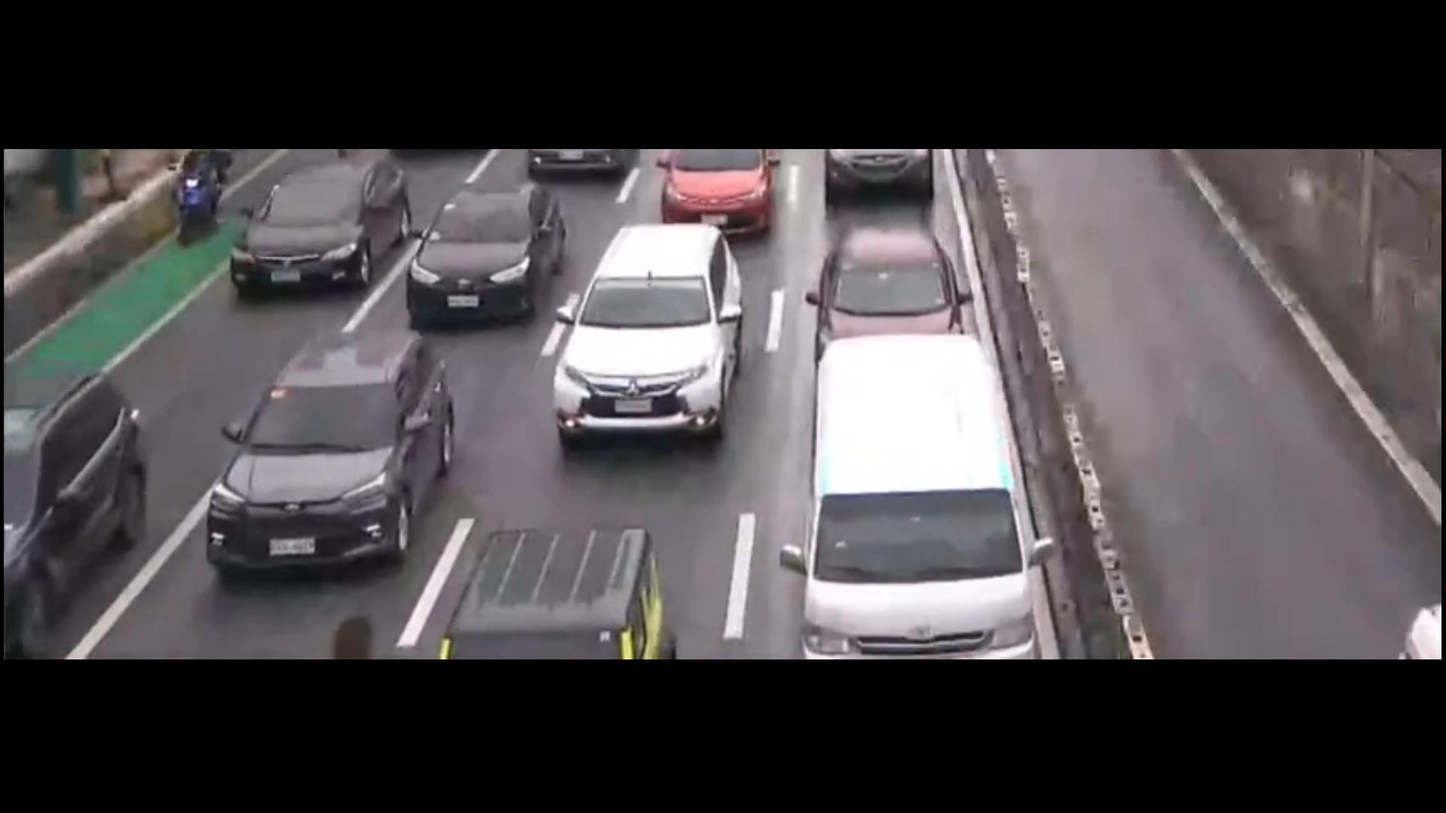Motorcycle: (164, 148, 239, 249)
SUV: (550, 222, 749, 452)
Sedan: (201, 326, 458, 582), (0, 360, 147, 652), (402, 177, 582, 337), (247, 151, 420, 306), (789, 217, 970, 352)
Van: (783, 326, 1055, 652)
